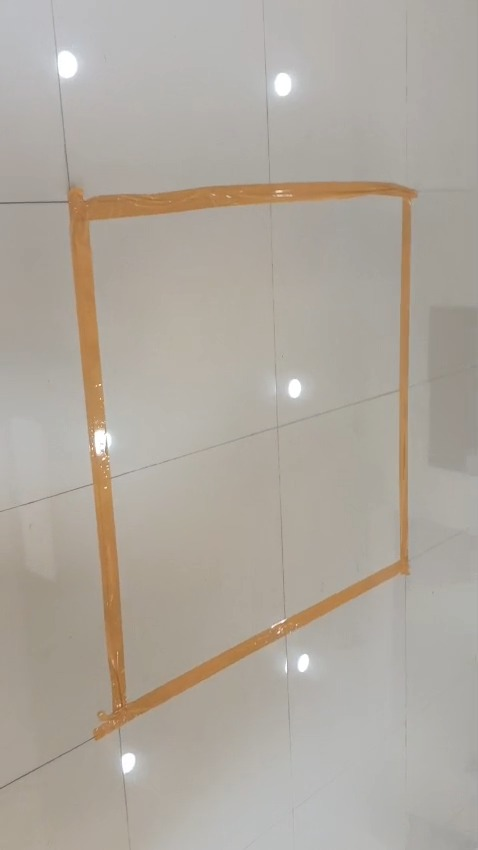floor marking: (69, 181, 416, 738)
